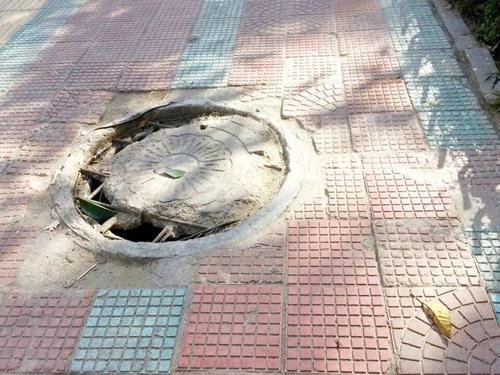broke: (51, 93, 312, 257)
